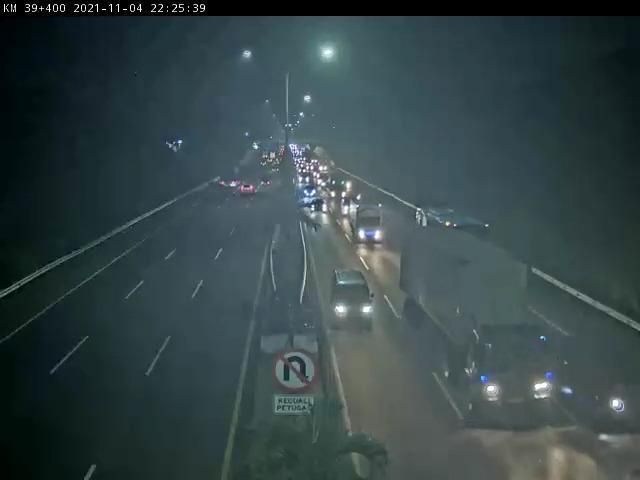car: (561, 336, 640, 424), (328, 271, 374, 328), (239, 180, 259, 200), (312, 200, 330, 214)
truck: (400, 224, 559, 424), (349, 198, 386, 246)
